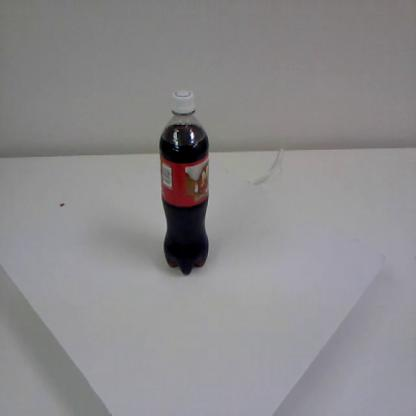bottle: (157, 86, 211, 277)
